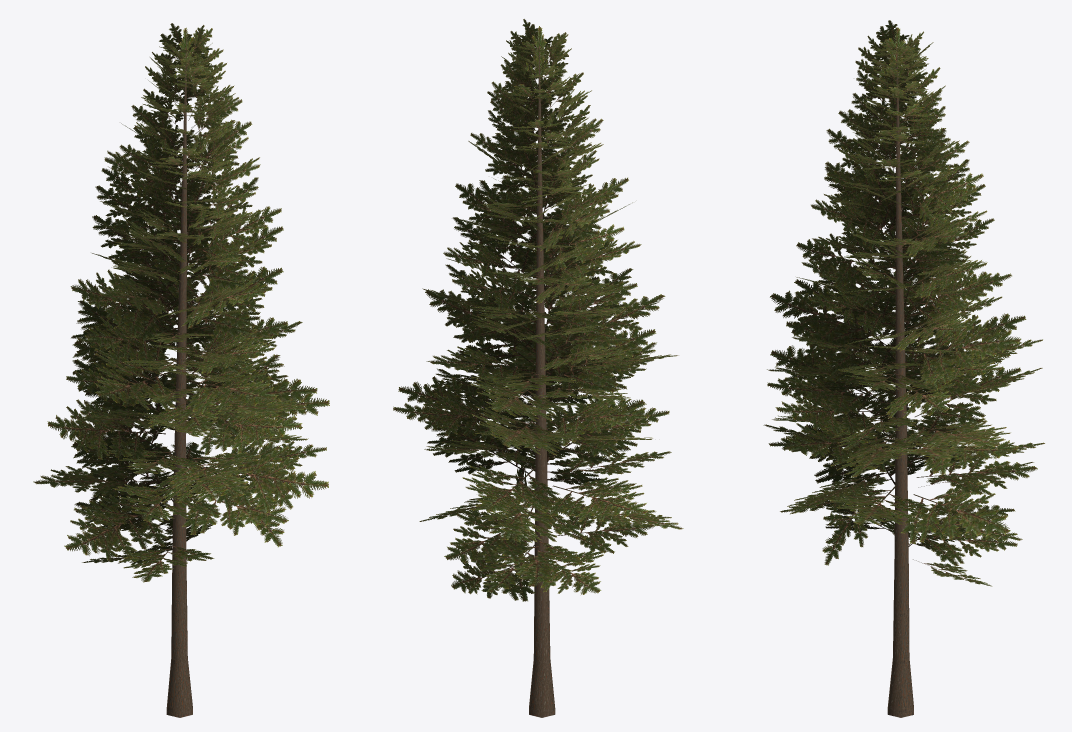
File: fir_medium_b_lod3.gltf
The picture shows the model from 3 angles, left to right: view 1: azimuth 30°, elevation 25°; view 2: azimuth 150°, elevation 25°; view 3: azimuth 270°, elevation 25°; orthographic projection.
Visible parts, largest first — view 1: fir_medium_b_LOD3; view 2: fir_medium_b_LOD3; view 3: fir_medium_b_LOD3.
Part boxes in pixels (x1=…): fir_medium_b_LOD3: x1=33, y1=23, x2=329, y2=717; fir_medium_b_LOD3: x1=393, y1=19, x2=683, y2=717; fir_medium_b_LOD3: x1=763, y1=20, x2=1044, y2=717.
Bounding box in the file's own units: 10.18 × 23.52 × 9.94.
Materials: 2 (2 with a texture image).
